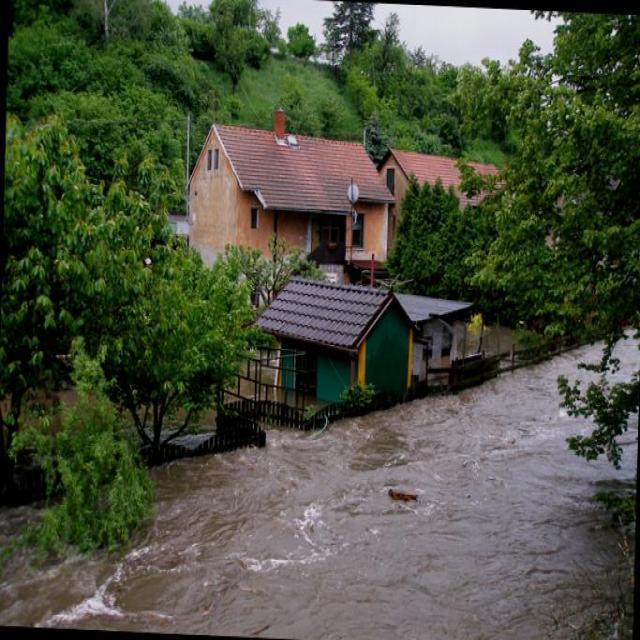flood: (0, 289, 639, 639)
